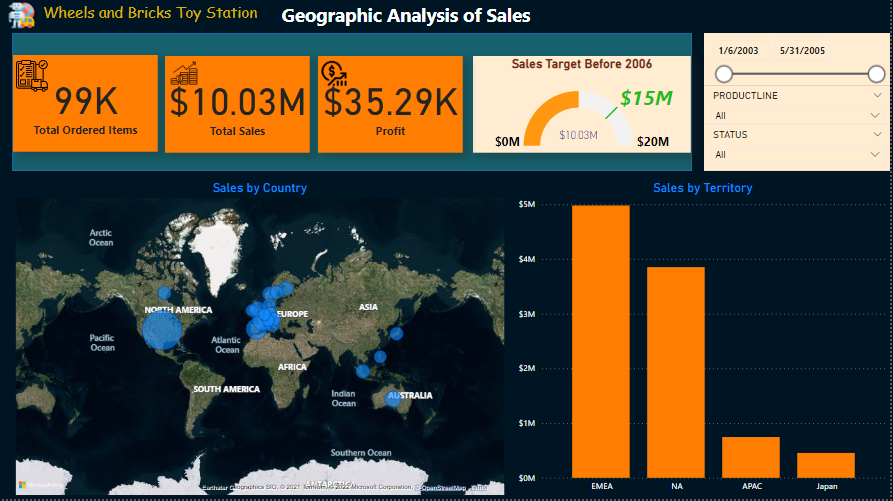

This screenshot's page, from the dashboard's own definition file:
{"tool":"powerbi","page":{"name":"Page 5","canvas":[1280,720],"ordinal":4},"visuals":[{"type":"image","box":[0,0,61.8,50.3],"z":0},{"type":"textbox","box":[0,0,431.1,50.3],"z":1000},{"type":"shape","box":[17.2,50.3,977.2,198.3],"z":2000},{"type":"slicer","fields":{"Values":["sales_data_sample.PRODUCTLINE"]},"box":[1011.7,126.5,268.7,56],"z":7000},{"type":"slicer","fields":{"Values":["sales_data_sample.STATUS"]},"box":[1011.7,182.5,268.7,66.1],"z":8000},{"type":"slicer","fields":{"Values":["sales_data_sample.Date"]},"box":[1011.7,50.3,268.7,76.2],"z":9000},{"type":"map","title":"Sales by Country","fields":{"Size":["Sum(sales_data_sample.SALES)"],"Category":["sales_data_sample.COUNTRY"]},"box":[17.2,261.6,712.8,458.4],"z":10000},{"type":"clusteredColumnChart","title":"Sales by Territory","fields":{"Y":["Sum(sales_data_sample.SALES)"],"Category":["sales_data_sample.TERRITORY"]},"box":[740.1,261.6,540.4,458.4],"z":11000},{"type":"textbox","box":[399,0,881,50.3],"z":12000},{"type":"card","fields":{"Values":["sales_data_sample.Total Ordered Items"]},"box":[18.7,81.9,208.4,139.4],"z":12001},{"type":"card","fields":{"Values":["sales_data_sample.Total Sales"]},"box":[237.1,83.4,208.4,139.4],"z":12002},{"type":"gauge","title":"Sales Target Before 2006","fields":{"TargetValue":["sales_data_sample.Goal before 2006"],"MaxValue":["sales_data_sample.Max"],"Y":["Sum(sales_data_sample.SALES)"]},"box":[679.8,83.4,313.3,139.4],"z":12003},{"type":"card","fields":{"Values":["sales_data_sample.Profit"]},"box":[457,83.4,208.4,139.4],"z":12004},{"type":"image","box":[17.2,83.4,57.5,57.5],"z":12005},{"type":"image","box":[240,83.4,48.9,48.9],"z":12006},{"type":"image","box":[457,83.4,46,48.9],"z":12007}]}

Visuals, with their boxes in screenshot pixels (x1, y1, x2, y2), scaled from the page's 1280x720 canvas onto the 893x501 screenshot:
image: (0, 0, 43, 35)
textbox: (0, 0, 301, 35)
shape: (12, 35, 694, 173)
slicer - sales_data_sample.PRODUCTLINE: (706, 88, 892, 127)
slicer - sales_data_sample.STATUS: (706, 127, 892, 173)
slicer - sales_data_sample.Date: (706, 35, 892, 88)
"Sales by Country" map: (12, 182, 509, 500)
"Sales by Territory" clusteredColumnChart: (516, 182, 892, 500)
textbox: (278, 0, 892, 35)
card - sales_data_sample.Total Ordered Items: (13, 57, 158, 154)
card - sales_data_sample.Total Sales: (165, 58, 311, 155)
"Sales Target Before 2006" gauge: (474, 58, 693, 155)
card - sales_data_sample.Profit: (319, 58, 464, 155)
image: (12, 58, 52, 98)
image: (167, 58, 202, 92)
image: (319, 58, 351, 92)
